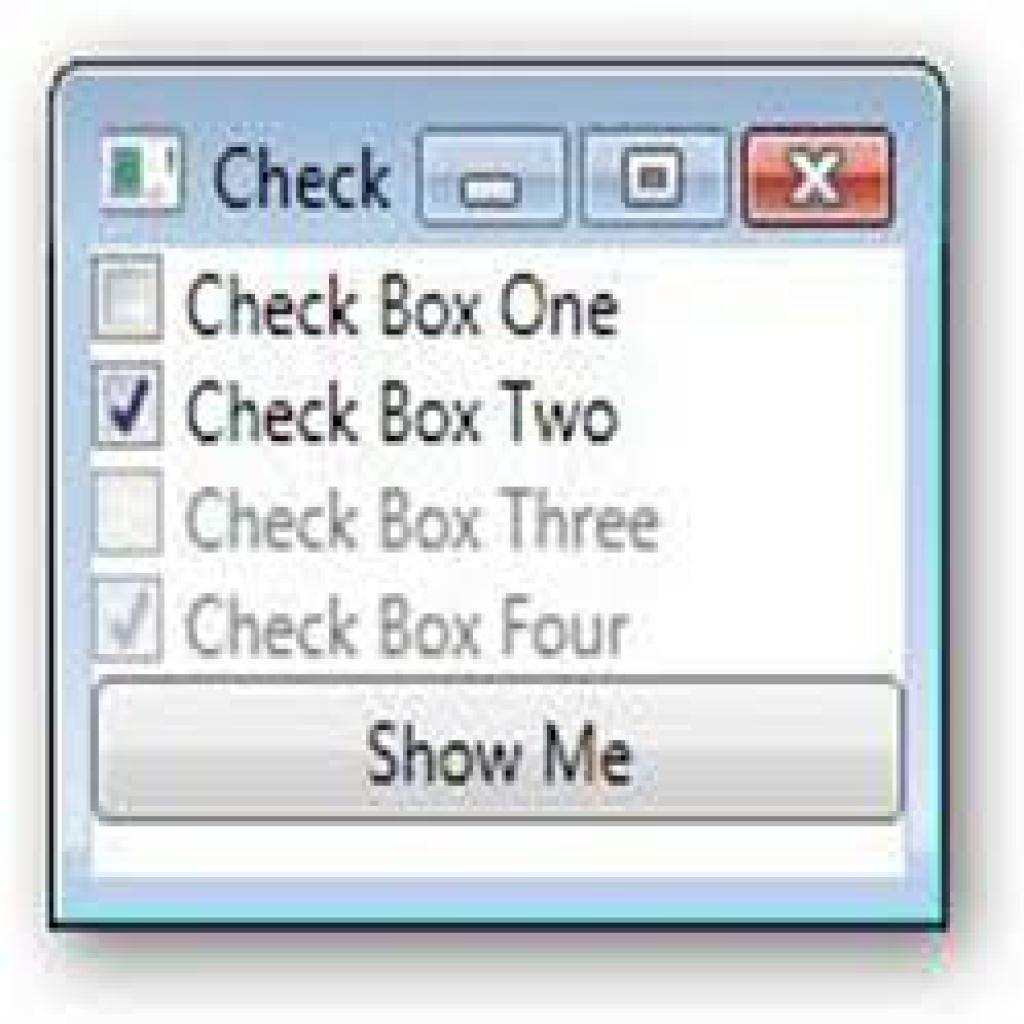button: (95, 683, 905, 821)
checkbox: (92, 470, 164, 554), (90, 366, 164, 447), (93, 258, 166, 340), (97, 578, 165, 665)
icon: (620, 144, 689, 212), (787, 147, 846, 209), (459, 169, 523, 211)
label: (178, 260, 637, 350), (185, 478, 664, 561), (184, 374, 624, 450)
